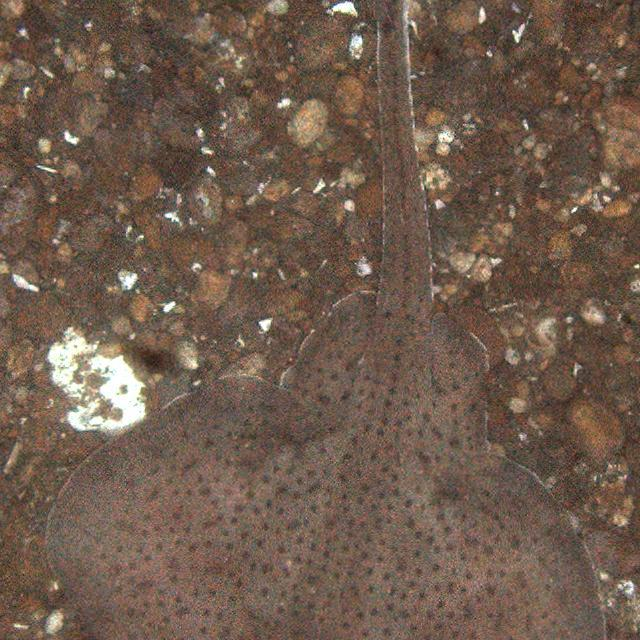skate: (49, 0, 609, 640)
